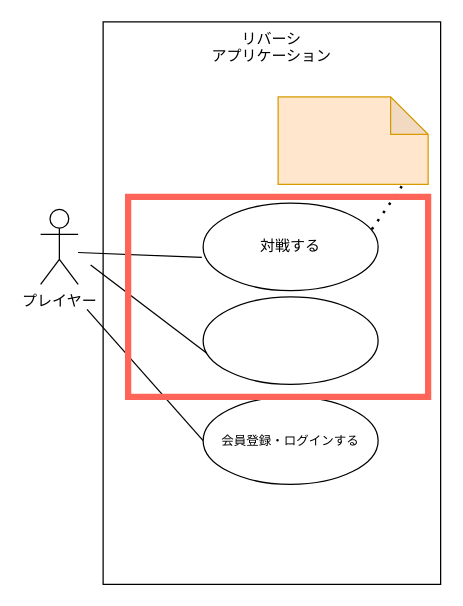
Some shapes in this 463 by 606 pixel diagram are drawn without their labels. The shapes that lost their labels are listed below. From the top down, each one's centre as x and y in pixels, then its label:
At [352,140]: "・対戦を開始する。 ・盤面を見る。 ・石を打つ。 ・勝敗を確認する。".
At [290,340]: "自分の 過去の対戦結果を確認する".
